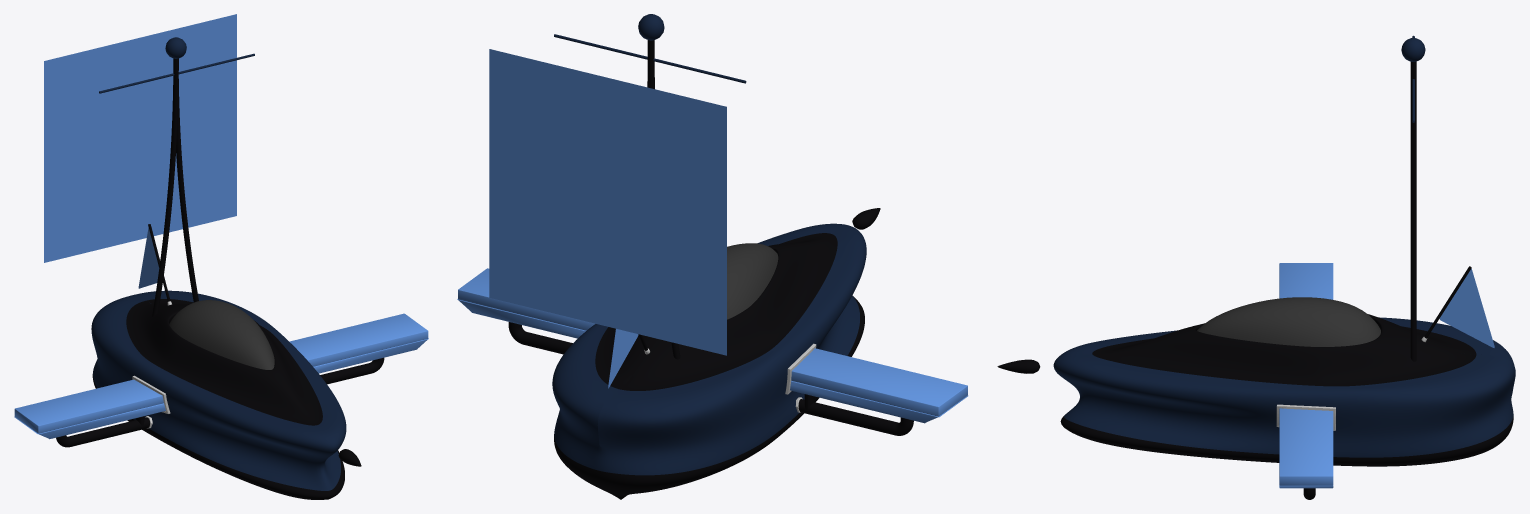
File: Ship V2.fbx
3 renders of one model, left to right at view 1: azimuth 30°, elevation 25°; view 2: azimuth 150°, elevation 25°; view 3: azimuth 270°, elevation 25°, orthographic. The views are drawn at different scales.
Visible parts, largest first — view 1: Plane, Boat_group, Cube, Cube_2, Cylinder_3, Cube_1, Sweep_3, Plane_1, Cylinder_2_2; view 2: Plane, Boat_group, Cube, Cube_2, Cube_1, Sweep_3, Plane_1, Cylinder_2_2, Sphere; view 3: Boat_group, Cube_2, Cube, Cylinder_3, Plane_1.
Part boxes in pixels (x1,y1,x2,y2): Plane: [44, 14, 236, 262]; Boat_group: [91, 290, 361, 499]; Cube: [14, 313, 428, 433]; Cube_2: [169, 300, 274, 369]; Cylinder_3: [152, 58, 198, 316]; Cube_1: [14, 338, 428, 439]; Sweep_3: [56, 357, 384, 447]; Plane_1: [138, 227, 159, 288]; Cylinder_2_2: [99, 53, 254, 93]; Plane: [489, 49, 726, 355]; Boat_group: [552, 208, 880, 499]; Cube: [458, 268, 967, 416]; Cube_2: [727, 243, 778, 319]; Cube_1: [457, 299, 968, 423]; Sweep_3: [508, 322, 913, 435]; Plane_1: [608, 329, 638, 388]; Cylinder_2_2: [554, 34, 746, 83]; Sphere: [638, 14, 664, 40]; Boat_group: [997, 314, 1515, 466]; Cube_2: [1197, 297, 1380, 346]; Cube: [1279, 263, 1333, 485]; Cylinder_3: [1410, 61, 1416, 361]; Plane_1: [1439, 268, 1494, 347].
Bounding box in the file's own units: 641 × 584 × 655.
